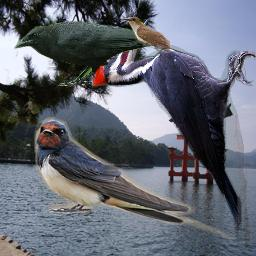Crow: (14, 21, 157, 88)
Cuckoo: (121, 17, 170, 53)
Swallow: (34, 117, 237, 239)
Woodpecker: (93, 19, 256, 248)
